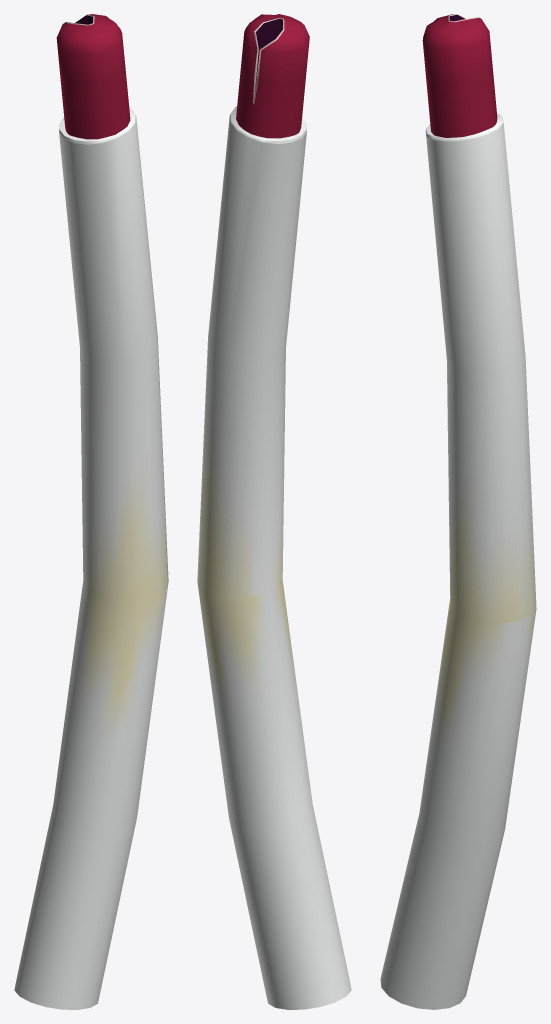
File: TubeWormExport.fbx
3 views of the same model, side by side, from view 1: azimuth 30°, elevation 25°; view 2: azimuth 150°, elevation 25°; view 3: azimuth 330°, elevation 25° (orthographic).
Visible parts, largest first — view 1: Tube, Worm; view 2: Tube, Worm; view 3: Tube, Worm.
Boxes of the visible parts, box(x1,y1,x2,y2) form: Tube: box(14, 107, 168, 1009); Worm: box(56, 14, 130, 139); Tube: box(197, 106, 351, 1009); Worm: box(236, 14, 309, 138); Tube: box(380, 113, 536, 1009); Worm: box(422, 14, 497, 137).
Size of the model in its own units: 37.31 by 242 by 19.45.
